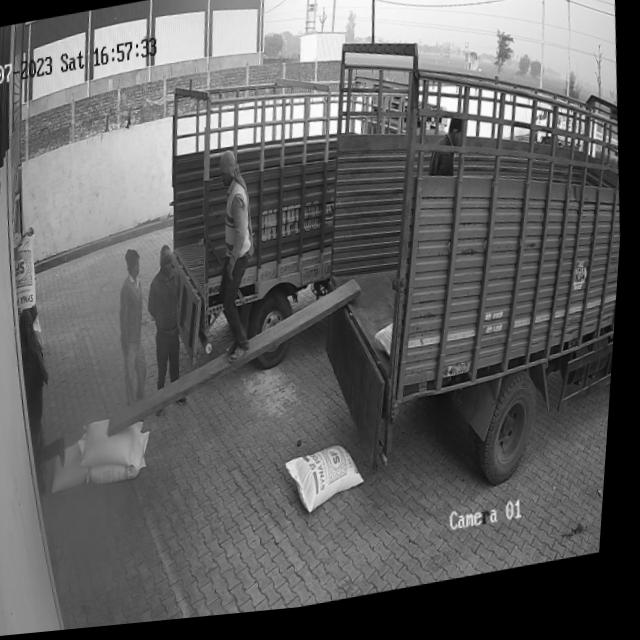sack: (286, 446, 374, 523), (80, 413, 152, 477), (89, 433, 158, 489), (11, 226, 46, 313), (52, 442, 96, 495)
